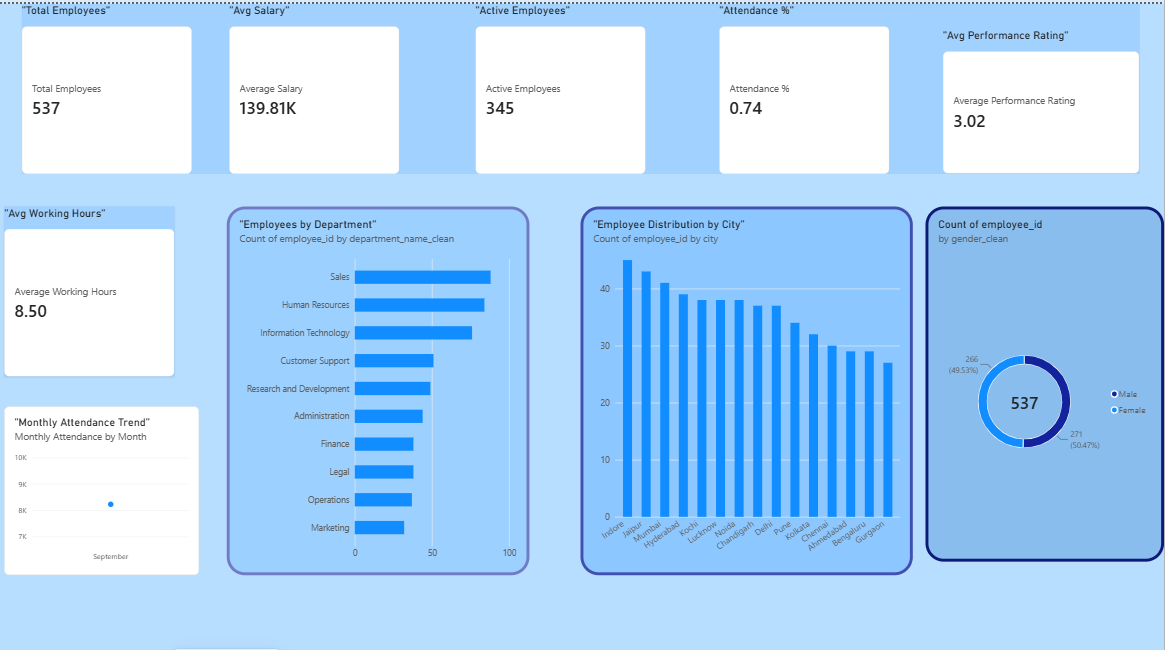

The dashboard page shown, as its layout file describes it:
{"tool":"powerbi","page":{"name":"HR Overview","canvas":[1920,1080],"ordinal":0},"visuals":[{"type":"cardVisual","title":"\"Total Employees\"","fields":{"Data":["_Measures.Total Employees"]},"box":[39.8,0,280,280],"z":0,"group":"g1"},{"type":"cardVisual","title":"\t\"Active Employees\"","fields":{"Data":["_Measures.Active Employees"]},"box":[787.3,0,280,280],"z":1,"group":"g1"},{"type":"cardVisual","title":"\"Attendance %\"","fields":{"Data":["_Measures.Attendance %"]},"box":[1188.6,0,280,280],"z":2,"group":"g1"},{"type":"cardVisual","title":"\"Avg Performance Rating\"","fields":{"Data":["_Measures.Average Performance Rating"]},"box":[1557.1,41.2,323.2,238.8],"z":3,"group":"g1"},{"type":"cardVisual","title":"\"Avg Salary\"","fields":{"Data":["_Measures.Average Salary"]},"box":[381.8,0,280,280],"z":4,"group":"g1"},{"type":"cardVisual","title":"\"Avg Working Hours\"","fields":{"Data":["_Measures.Average Working Hours"]},"box":[10.3,333.4,280,280],"z":5},{"type":"clusteredBarChart","title":"\"Employees by Department\"","fields":{"Category":["employee_hr_analytics clean_departments.department_name_clean"],"Y":["CountNonNull(employee_hr_analytics clean_employees.employee_id)"]},"box":[376.7,333.4,498.1,607.2],"z":6},{"type":"lineChart","title":"\"Monthly Attendance Trend\"","fields":{"Category":["employee_hr_analytics clean_attendance.attendance_date.Variation.Date Hierarchy.Month"],"Y":["_Measures.Monthly Attendance"]},"box":[10.3,662.8,321.1,277.9],"z":7},{"type":"clusteredColumnChart","title":"\"Employee Distribution by City\"","fields":{"Category":["employee_hr_analytics clean_employees.city"],"Y":["CountNonNull(employee_hr_analytics clean_employees.employee_id)"]},"box":[959.2,333.4,547.5,607.2],"z":8},{"type":"donutChart","fields":{"Category":["employee_hr_analytics clean_employees.gender_clean"],"Y":["CountNonNull(employee_hr_analytics clean_employees.employee_id)"]},"box":[1527.3,333.4,393.1,584.6],"z":9},{"type":"group","id":"g1","title":"Group 1","box":[39.8,0,1840.4,280],"z":10}]}

Visuals, with their boxes in screenshot pixels (x1, y1, x2, y2), scaled from the page's 1920x1080 canvas onto the 1165x650 screenshot:
""Total Employees"" cardVisual: detection(24, 0, 194, 169)
"	"Active Employees"" cardVisual: detection(478, 0, 648, 169)
""Attendance %"" cardVisual: detection(721, 0, 891, 169)
""Avg Performance Rating"" cardVisual: detection(945, 25, 1141, 169)
""Avg Salary"" cardVisual: detection(232, 0, 402, 169)
""Avg Working Hours"" cardVisual: detection(6, 201, 176, 369)
""Employees by Department"" clusteredBarChart: detection(229, 201, 531, 566)
""Monthly Attendance Trend"" lineChart: detection(6, 399, 201, 566)
""Employee Distribution by City"" clusteredColumnChart: detection(582, 201, 914, 566)
donutChart - employee_hr_analytics clean_employees.gender_clean x CountNonNull(employee_hr_analytics clean_employees.employee_id): detection(927, 201, 1164, 552)
"Group 1" group: detection(24, 0, 1141, 169)
